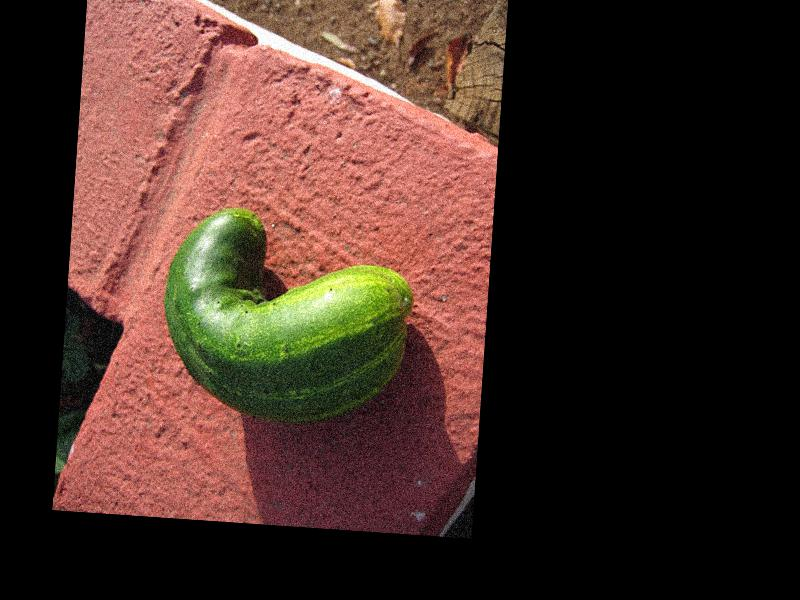Cucumber: (157, 201, 417, 429)
